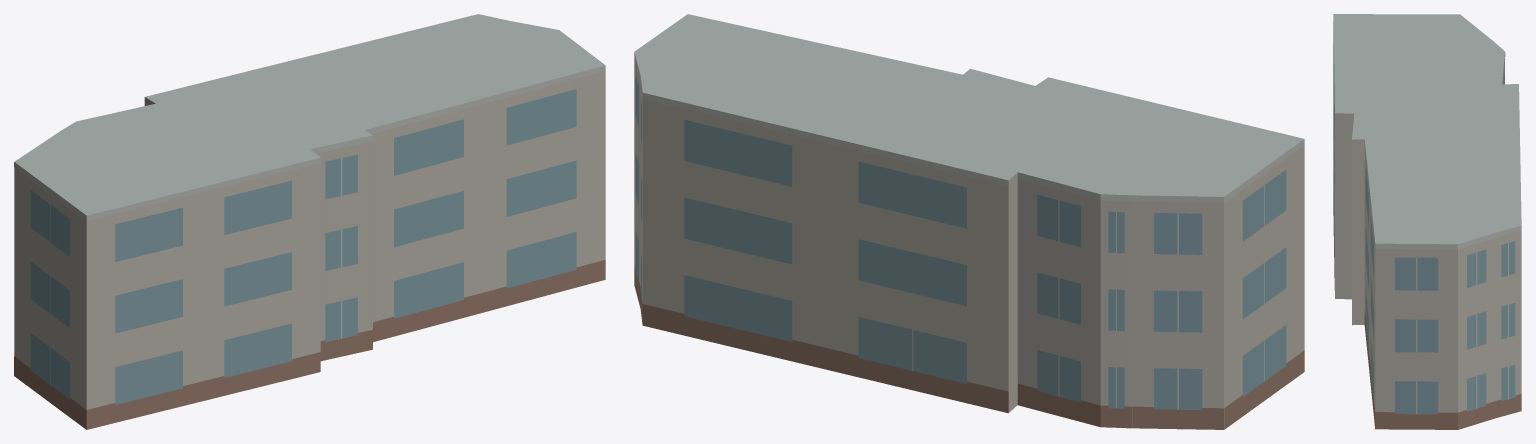
The model's file is survey-upis-32499353.glb.
The picture shows the model from 3 angles, left to right: view 1: azimuth 30°, elevation 25°; view 2: azimuth 150°, elevation 25°; view 3: azimuth 270°, elevation 25°; orthographic projection. The views are drawn at different scales.
Visible parts, largest first — view 1: survey-upis-32499353.tmp; view 2: survey-upis-32499353.tmp; view 3: survey-upis-32499353.tmp.
Boxes of the visible parts, left/top/right/bottom form: survey-upis-32499353.tmp: left=14, top=14, right=605, bottom=429; survey-upis-32499353.tmp: left=634, top=14, right=1304, bottom=429; survey-upis-32499353.tmp: left=1333, top=14, right=1521, bottom=429.
Size of the model in its own units: 24.35 by 9.15 by 8.42.
